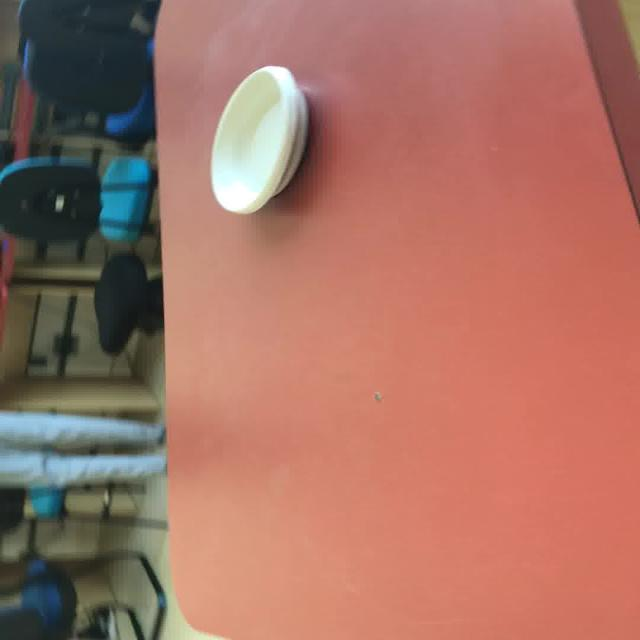plate: (209, 65, 309, 214)
